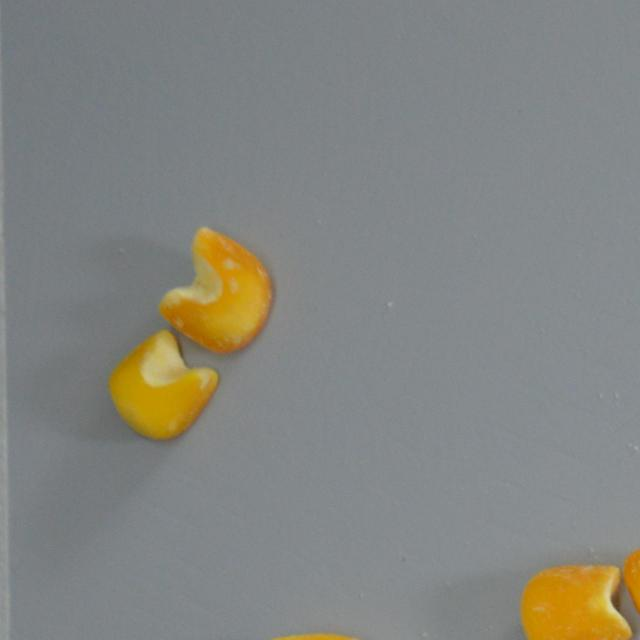no_canjicado: (106, 330, 218, 440), (620, 539, 640, 637)
pelicula: (158, 226, 274, 356), (517, 562, 631, 640)
